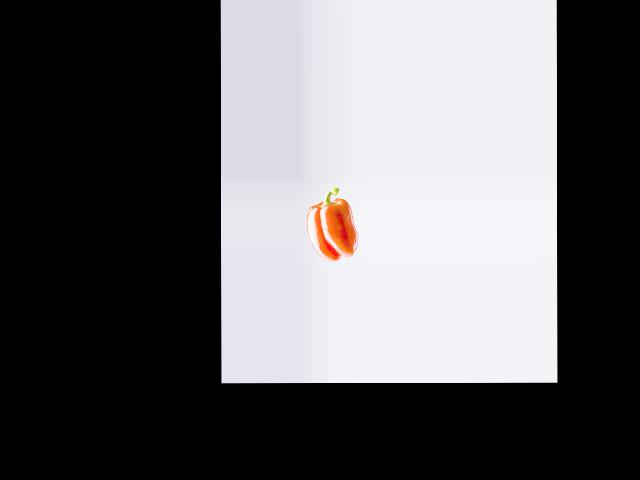bell_pepper: (304, 186, 359, 259)
